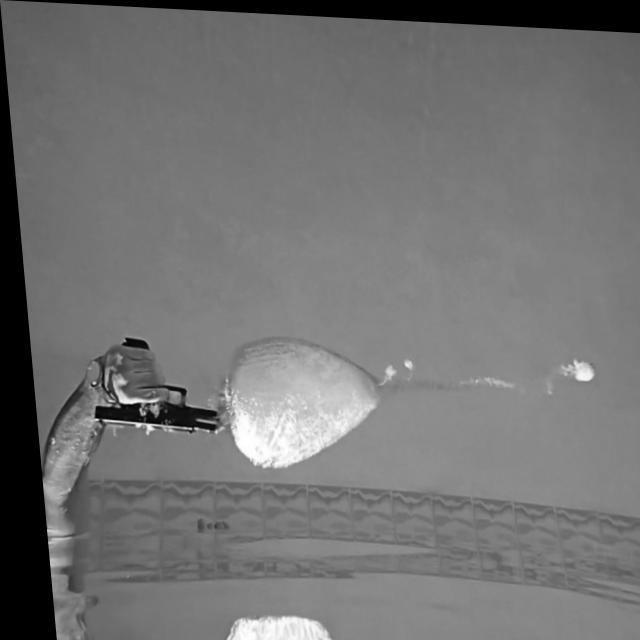handgun: (82, 331, 214, 445)
